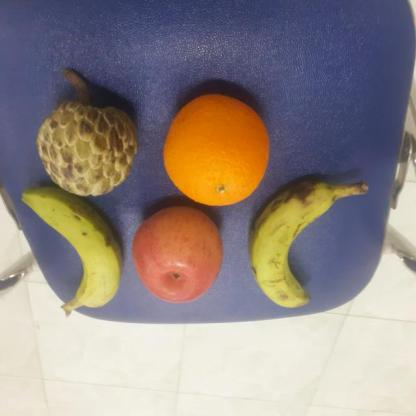annona: (35, 98, 141, 200)
apple: (129, 204, 225, 306)
banana: (14, 186, 124, 313), (246, 180, 339, 310)
orange: (160, 90, 272, 208)
